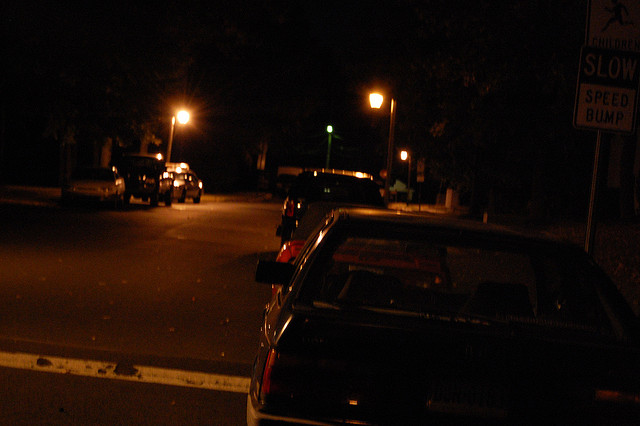car: (243, 206, 633, 419)
